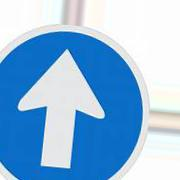forward: (1, 24, 149, 180)
